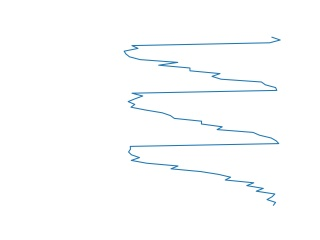distributaryMouthBar: (121, 35, 285, 210)
